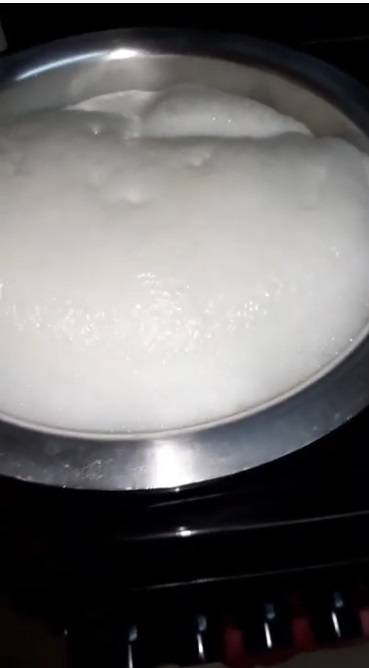Boiled: (17, 93, 364, 462)
